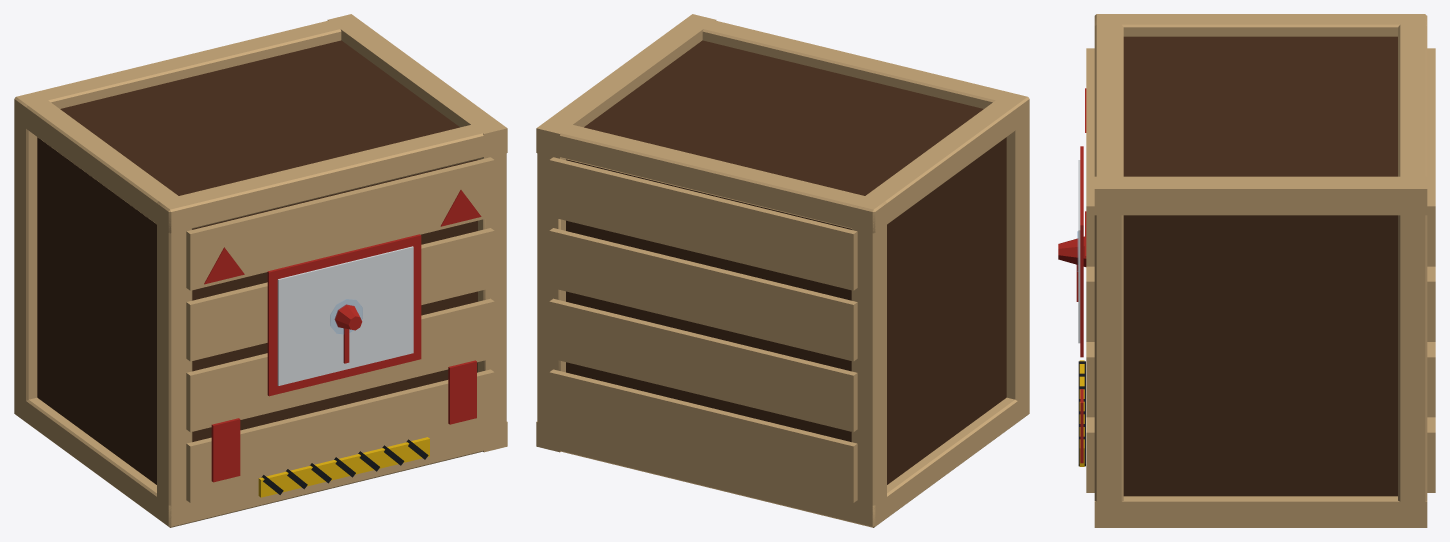
Rendered from crate_fragile.glb.
The picture shows the model from 3 angles, left to right: view 1: azimuth 30°, elevation 25°; view 2: azimuth 150°, elevation 25°; view 3: azimuth 270°, elevation 25°; orthographic projection. The views are drawn at different scales.
Visible parts, largest first — view 1: crate_fragile; view 2: crate_fragile; view 3: crate_fragile.
Part boxes in pixels (<box>): crate_fragile: <box>14,14,507,527</box>; crate_fragile: <box>536,14,1029,527</box>; crate_fragile: <box>1058,14,1435,527</box>.
Size of the model in its own units: 1 by 0.9 by 0.907.
